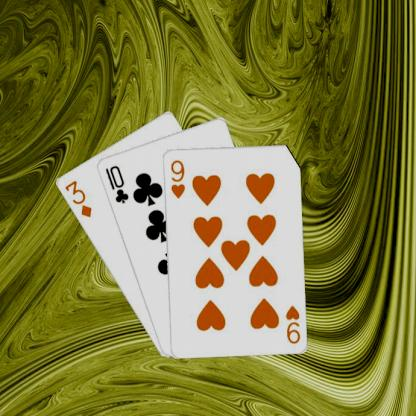10C: (102, 162, 130, 205)
3D: (61, 177, 93, 219)
9H: (168, 156, 186, 199), (283, 302, 301, 345)
